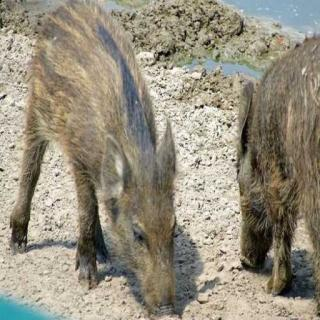Pig: (11, 0, 180, 305)
